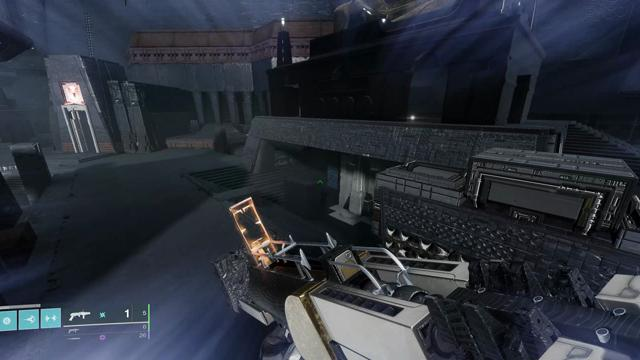give: (66, 86, 81, 101)
